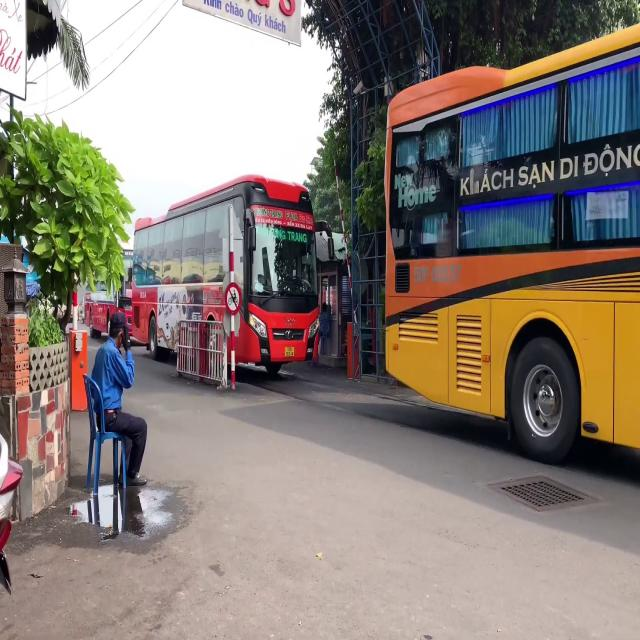bien_vang: (284, 345, 294, 359)
